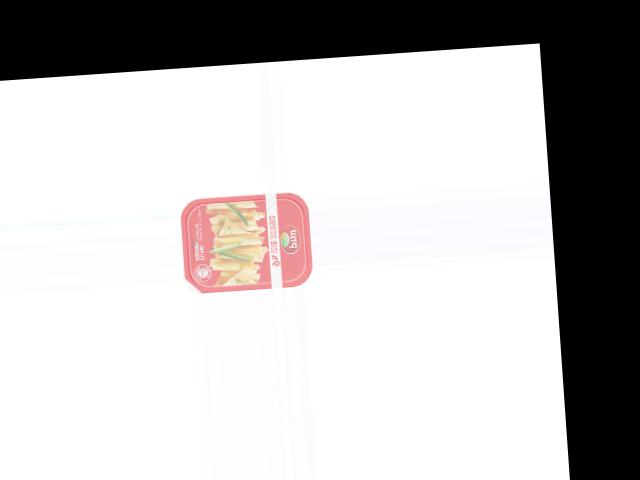cheese: (178, 189, 314, 294)
